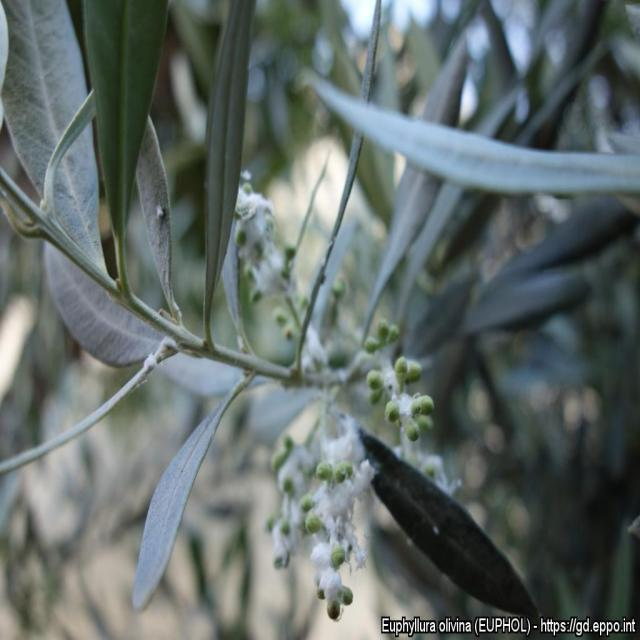Psyllid: (274, 409, 374, 621), (233, 182, 303, 342), (366, 355, 434, 454)
